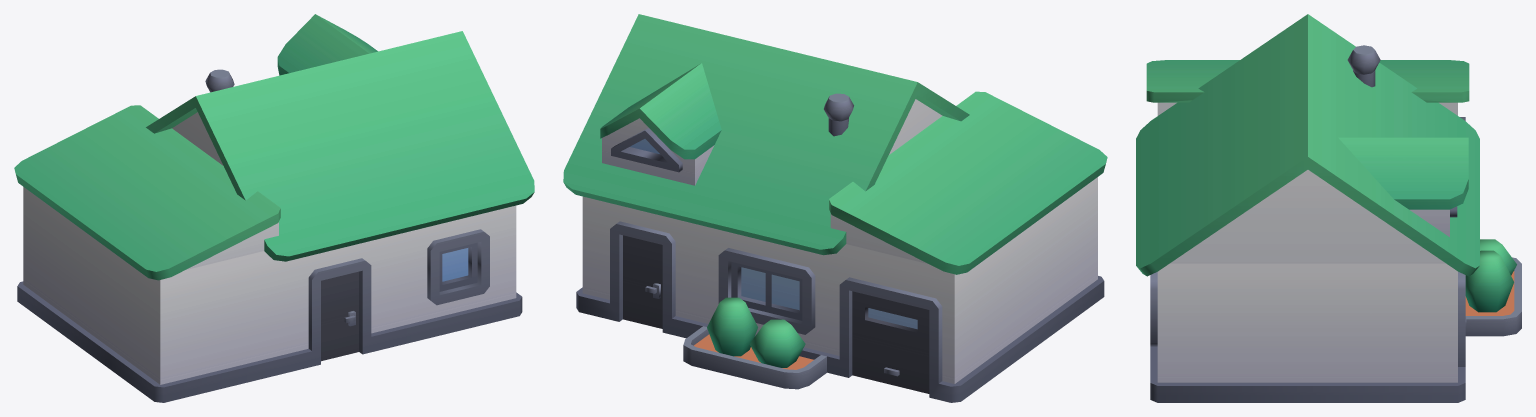
File: house-i.glb
The picture shows the model from 3 angles, left to right: view 1: azimuth 30°, elevation 25°; view 2: azimuth 150°, elevation 25°; view 3: azimuth 270°, elevation 25°; orthographic projection. The views are drawn at different scales.
Visible parts, largest first — view 1: building-type-i; view 2: building-type-i; view 3: building-type-i.
Part boxes in pixels (left/top/right/bottom): building-type-i: left=14, top=14, right=534, bottom=402; building-type-i: left=563, top=14, right=1107, bottom=402; building-type-i: left=1136, top=14, right=1521, bottom=402.
Size of the model in its own units: 1.29 by 0.7375 by 1.03.
1 material, 1 textured.
